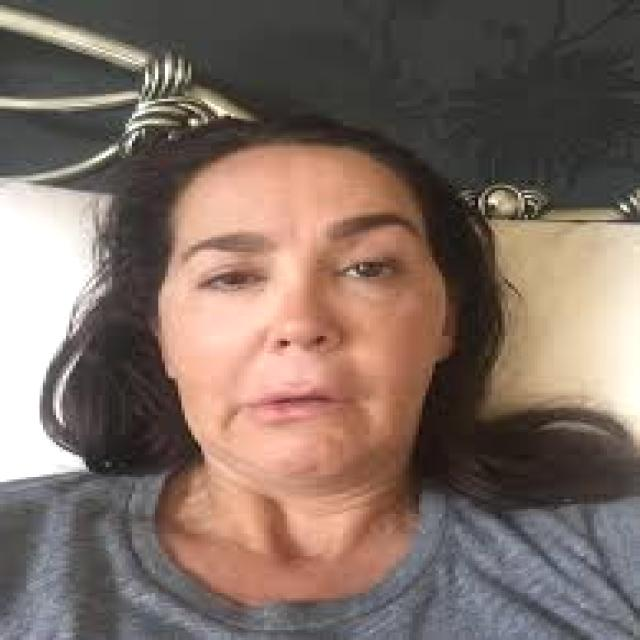stroke_face: (138, 124, 448, 502)
